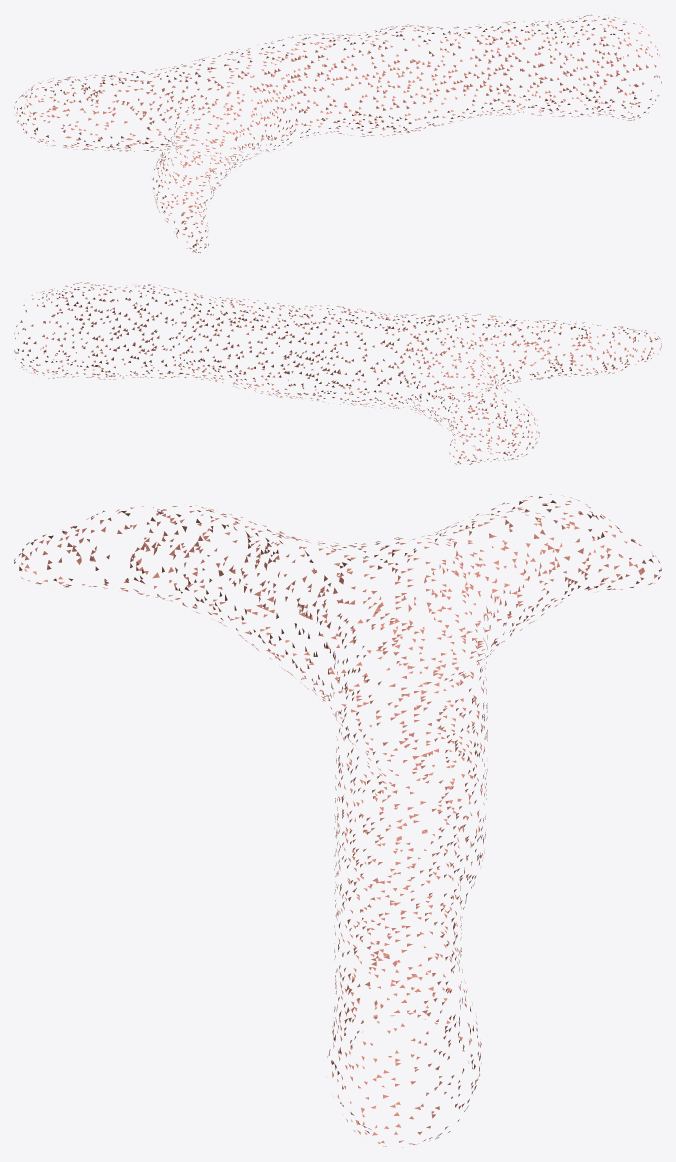
File: morph_002.glb
3 renders of one model, top to bottom at view 1: azimuth 30°, elevation 25°; view 2: azimuth 150°, elevation 25°; view 3: azimuth 270°, elevation 25°, orthographic. The views are drawn at different scales.
Size of the model in its own units: 131 by 32.68 by 75.66.
